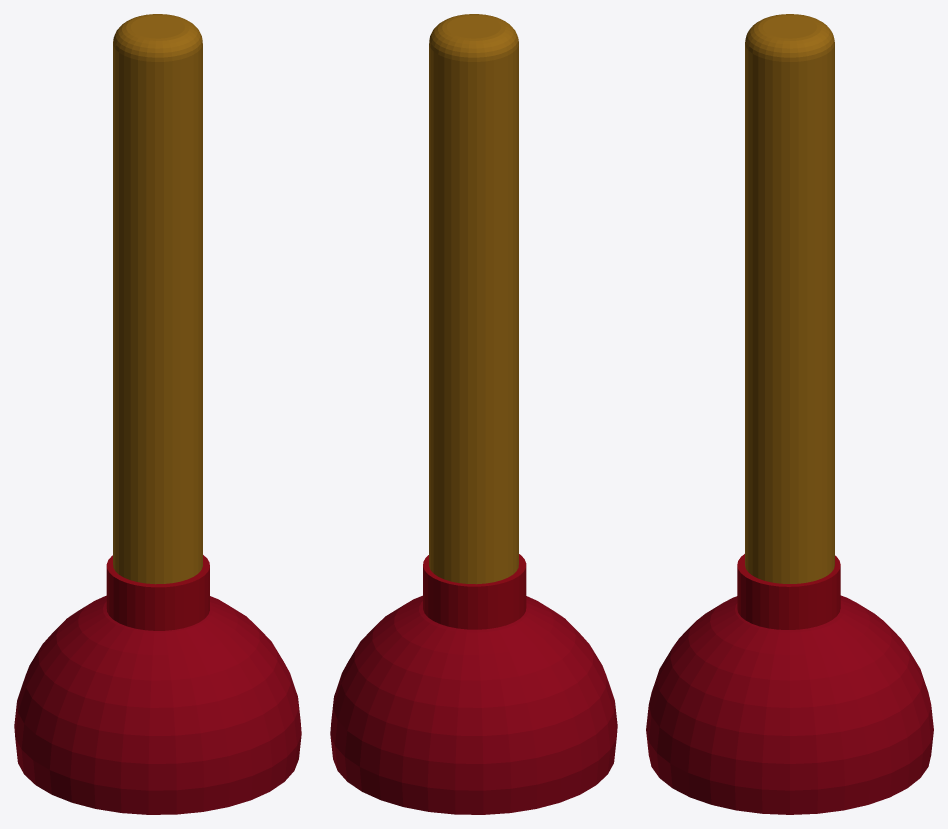
Rendered from plunger.fbx.
3 renders of one model, left to right at view 1: azimuth 30°, elevation 25°; view 2: azimuth 150°, elevation 25°; view 3: azimuth 270°, elevation 25°, orthographic.
Visible parts, largest first — view 1: Cylinder, Sphere, Cylinder.001; view 2: Cylinder, Sphere, Cylinder.001; view 3: Cylinder, Sphere, Cylinder.001.
Part boxes in pixels (box(x1,y1,x2,y2)): Cylinder: box(113, 14, 202, 584); Sphere: box(14, 595, 301, 814); Cylinder.001: box(106, 555, 209, 630); Cylinder: box(429, 14, 518, 584); Sphere: box(330, 595, 617, 814); Cylinder.001: box(423, 554, 526, 629); Cylinder: box(745, 14, 834, 583); Sphere: box(646, 595, 933, 814); Cylinder.001: box(737, 554, 840, 629).
Bounding box in the file's own units: 640 × 1786 × 640.
